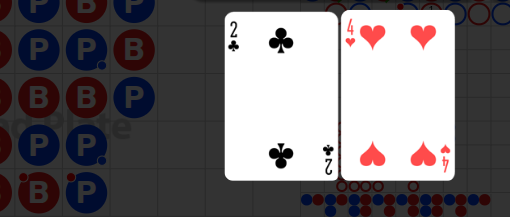2C: (228, 20, 242, 55)
4H: (345, 18, 358, 49)
